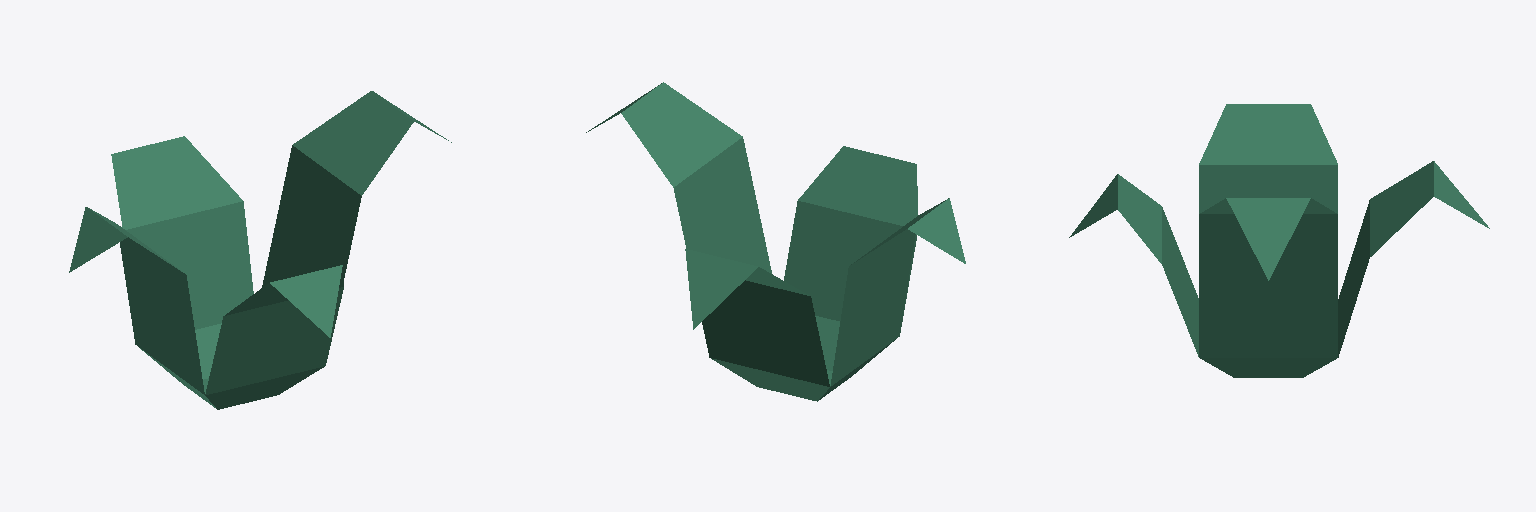
3 views of the same model, side by side, from view 1: azimuth 30°, elevation 25°; view 2: azimuth 150°, elevation 25°; view 3: azimuth 270°, elevation 25° (orthographic).
Visible parts, largest first — view 1: Mesh1 Plant_3 Model; view 2: Mesh1 Plant_3 Model; view 3: Mesh1 Plant_3 Model.
Part boxes in pixels (bbox=[...]): Mesh1 Plant_3 Model: bbox=[69, 91, 451, 409]; Mesh1 Plant_3 Model: bbox=[586, 82, 965, 401]; Mesh1 Plant_3 Model: bbox=[1069, 104, 1489, 377].
Bounding box in the file's own units: 1.15 × 0.6961 × 1.09.
1 materials, 1 textured.